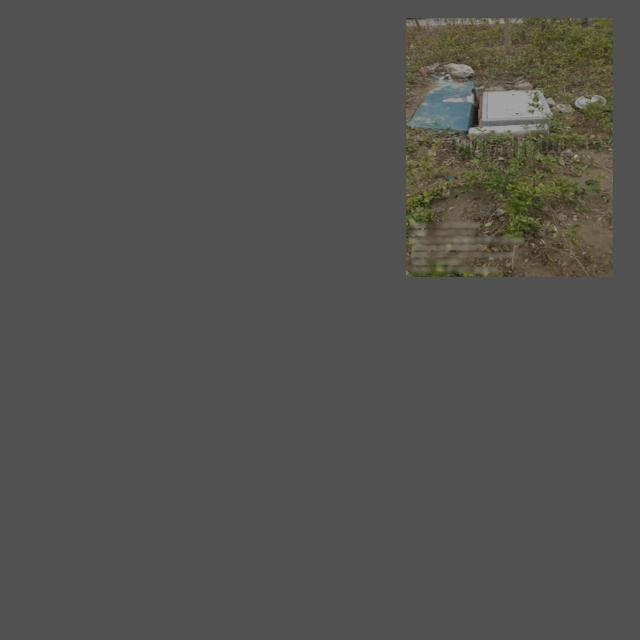circle: (466, 86, 558, 134)
